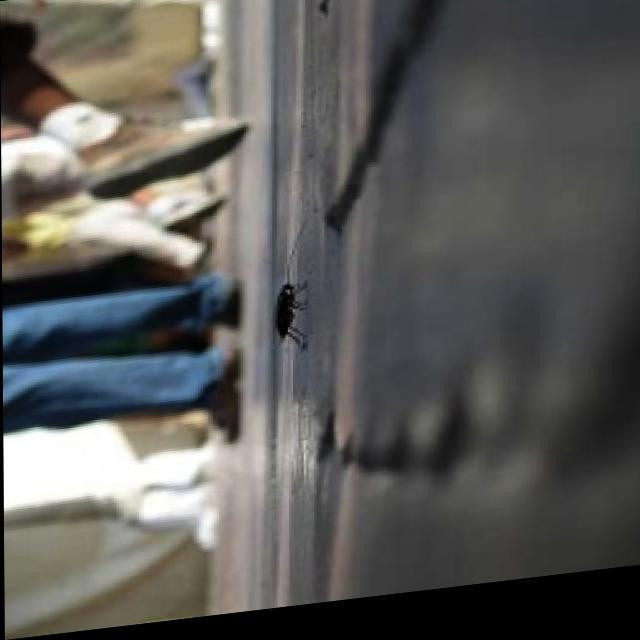cockroach: (270, 276, 313, 354)
